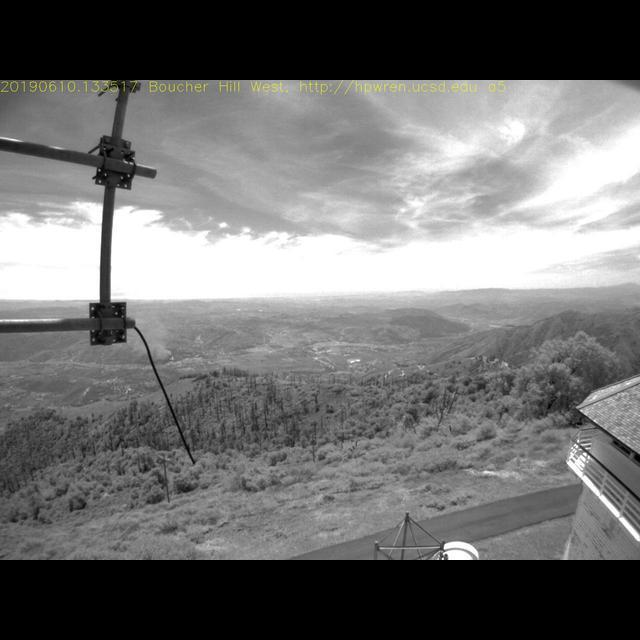Smoke: (130, 303, 171, 361)
